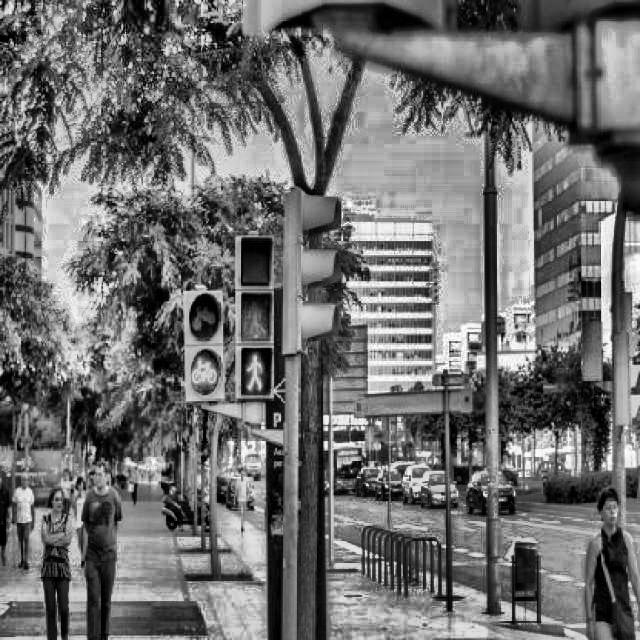semaforo pedestre: (228, 222, 290, 416), (177, 280, 235, 413)
